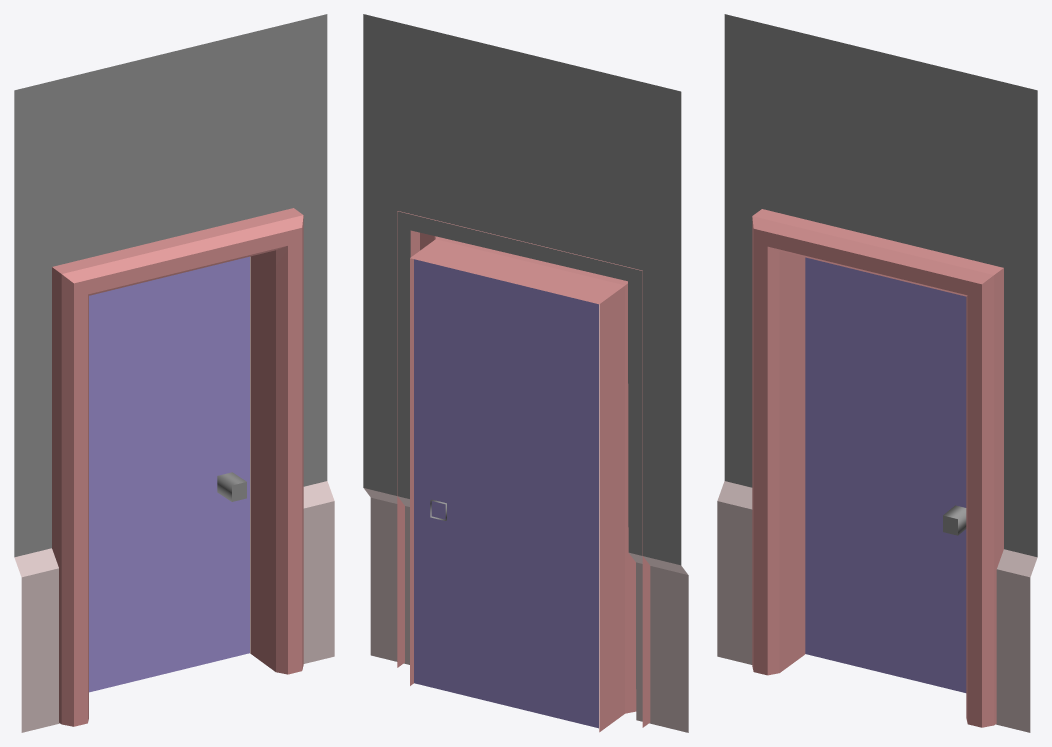
The model's file is Wand_Tür.FBX.
3 renders of one model, left to right at view 1: azimuth 30°, elevation 25°; view 2: azimuth 150°, elevation 25°; view 3: azimuth 330°, elevation 25°, orthographic.
Visible parts, largest first — view 1: Wand_ErdgeschossTür; view 2: Wand_ErdgeschossTür; view 3: Wand_ErdgeschossTür.
Boxes of the visible parts, <box> form: Wand_ErdgeschossTür: <box>14,14,334,732</box>; Wand_ErdgeschossTür: <box>363,14,688,732</box>; Wand_ErdgeschossTür: <box>717,14,1037,732</box>.
Size of the model in its own units: 39.37 by 76.57 by 6.73.
